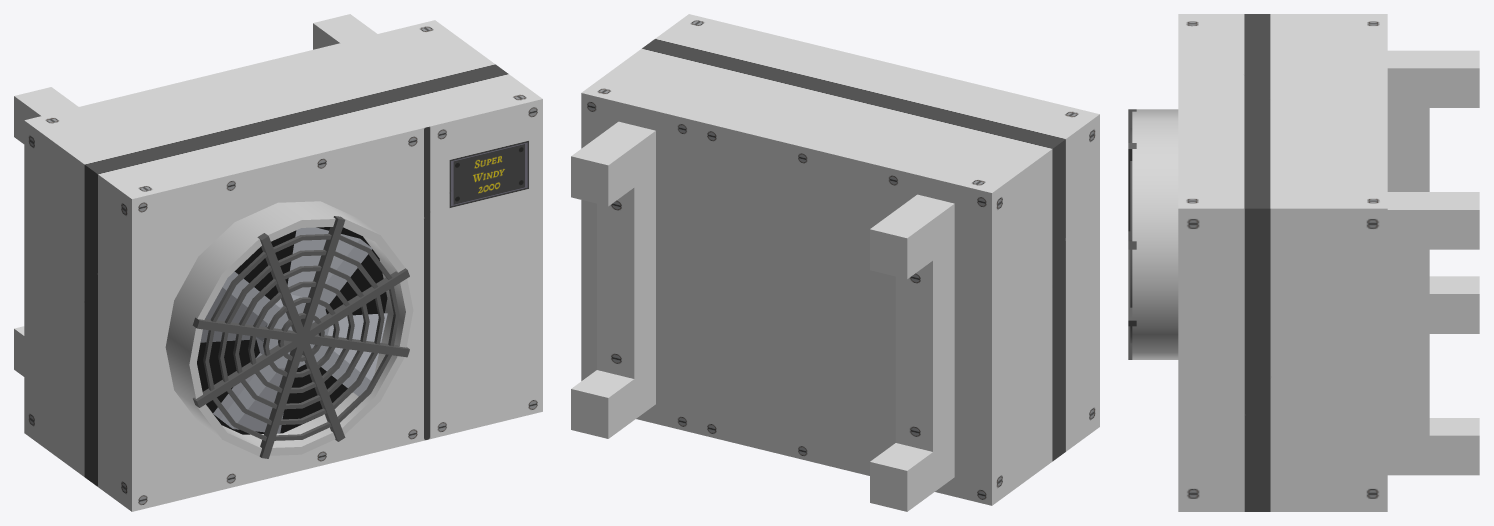
The model's file is Air conditioner 2.obj.
3 renders of one model, left to right at view 1: azimuth 30°, elevation 25°; view 2: azimuth 150°, elevation 25°; view 3: azimuth 270°, elevation 25°, orthographic. The views are drawn at different scales.
Parts seen in each view (by area): view 1: Air_Conditioner2; view 2: Air_Conditioner2; view 3: Air_Conditioner2.
Part boxes in pixels (bbox=[...]): Air_Conditioner2: bbox=[14, 14, 542, 511]; Air_Conditioner2: bbox=[571, 14, 1099, 511]; Air_Conditioner2: bbox=[1128, 14, 1479, 511].
Bounding box in the file's own units: 550 × 400 × 420.
1 material, 1 textured.
